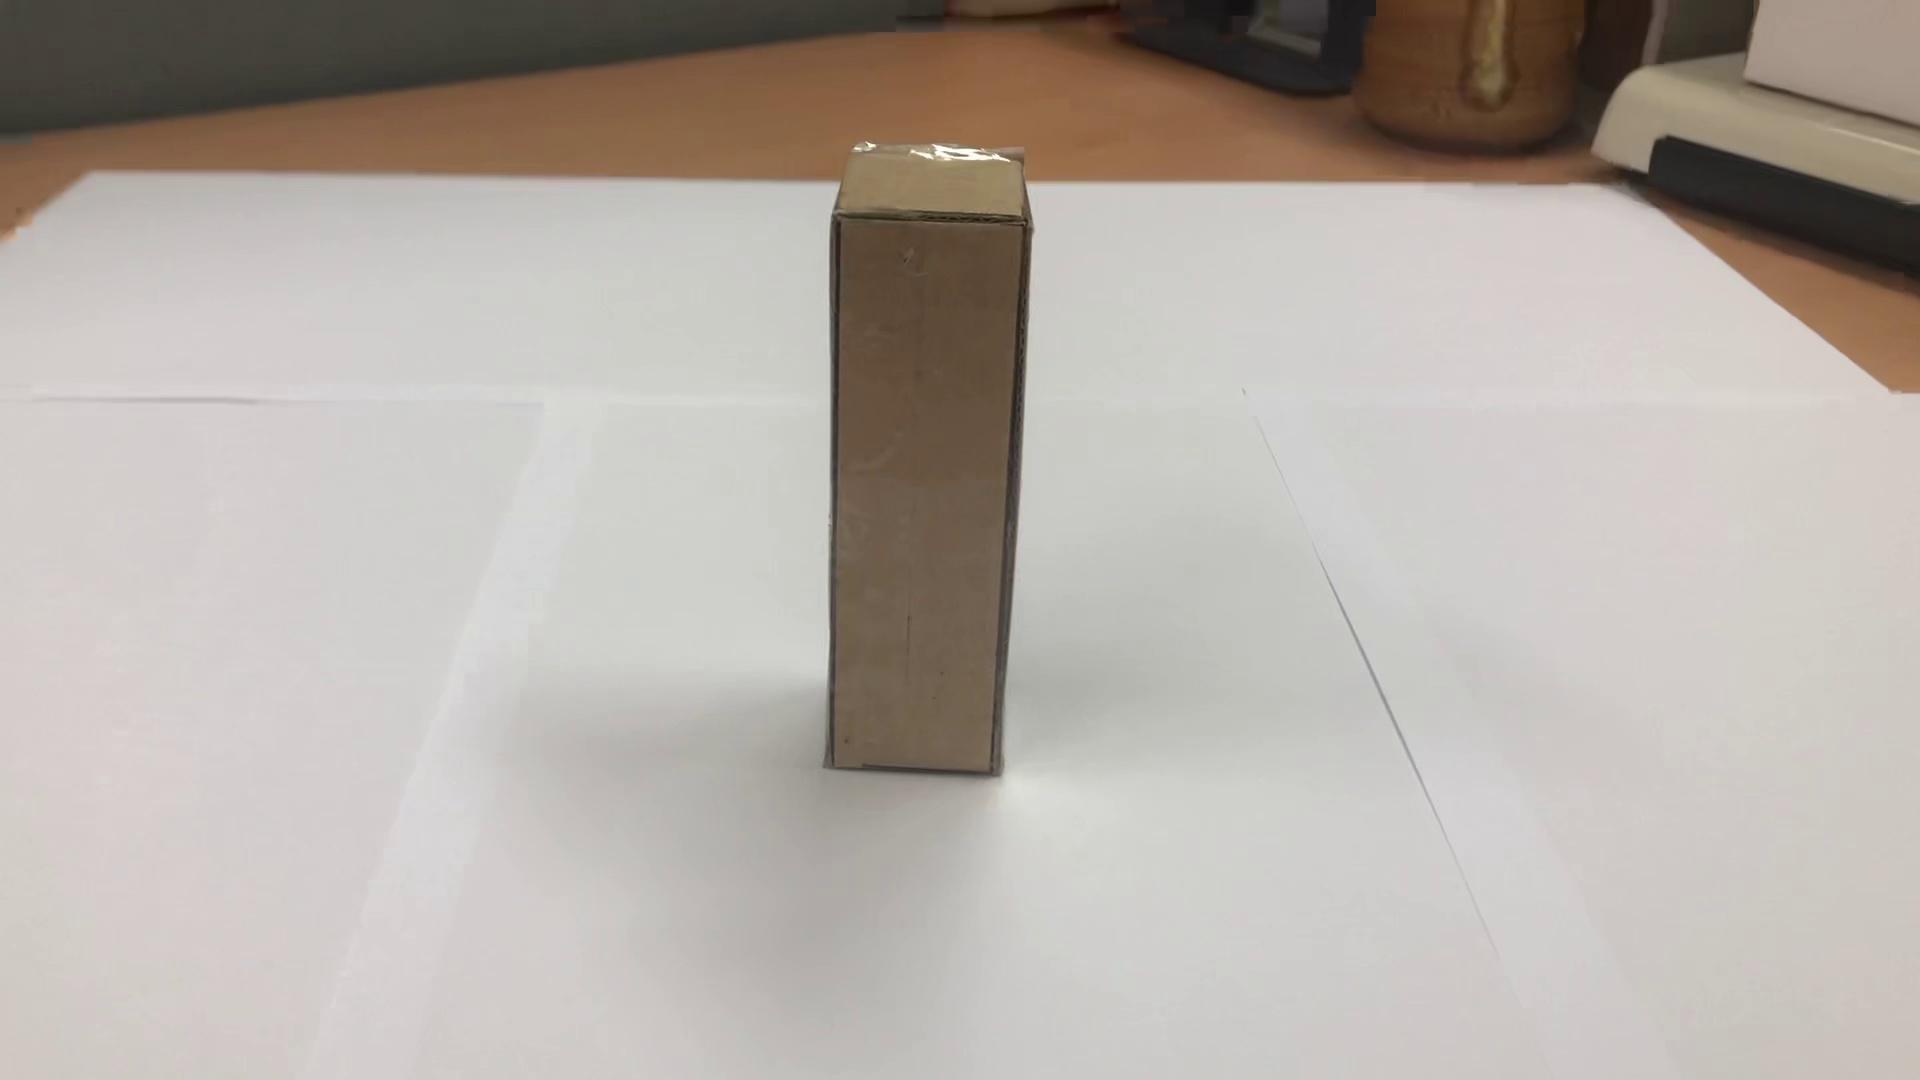box: (793, 113, 1055, 802)
